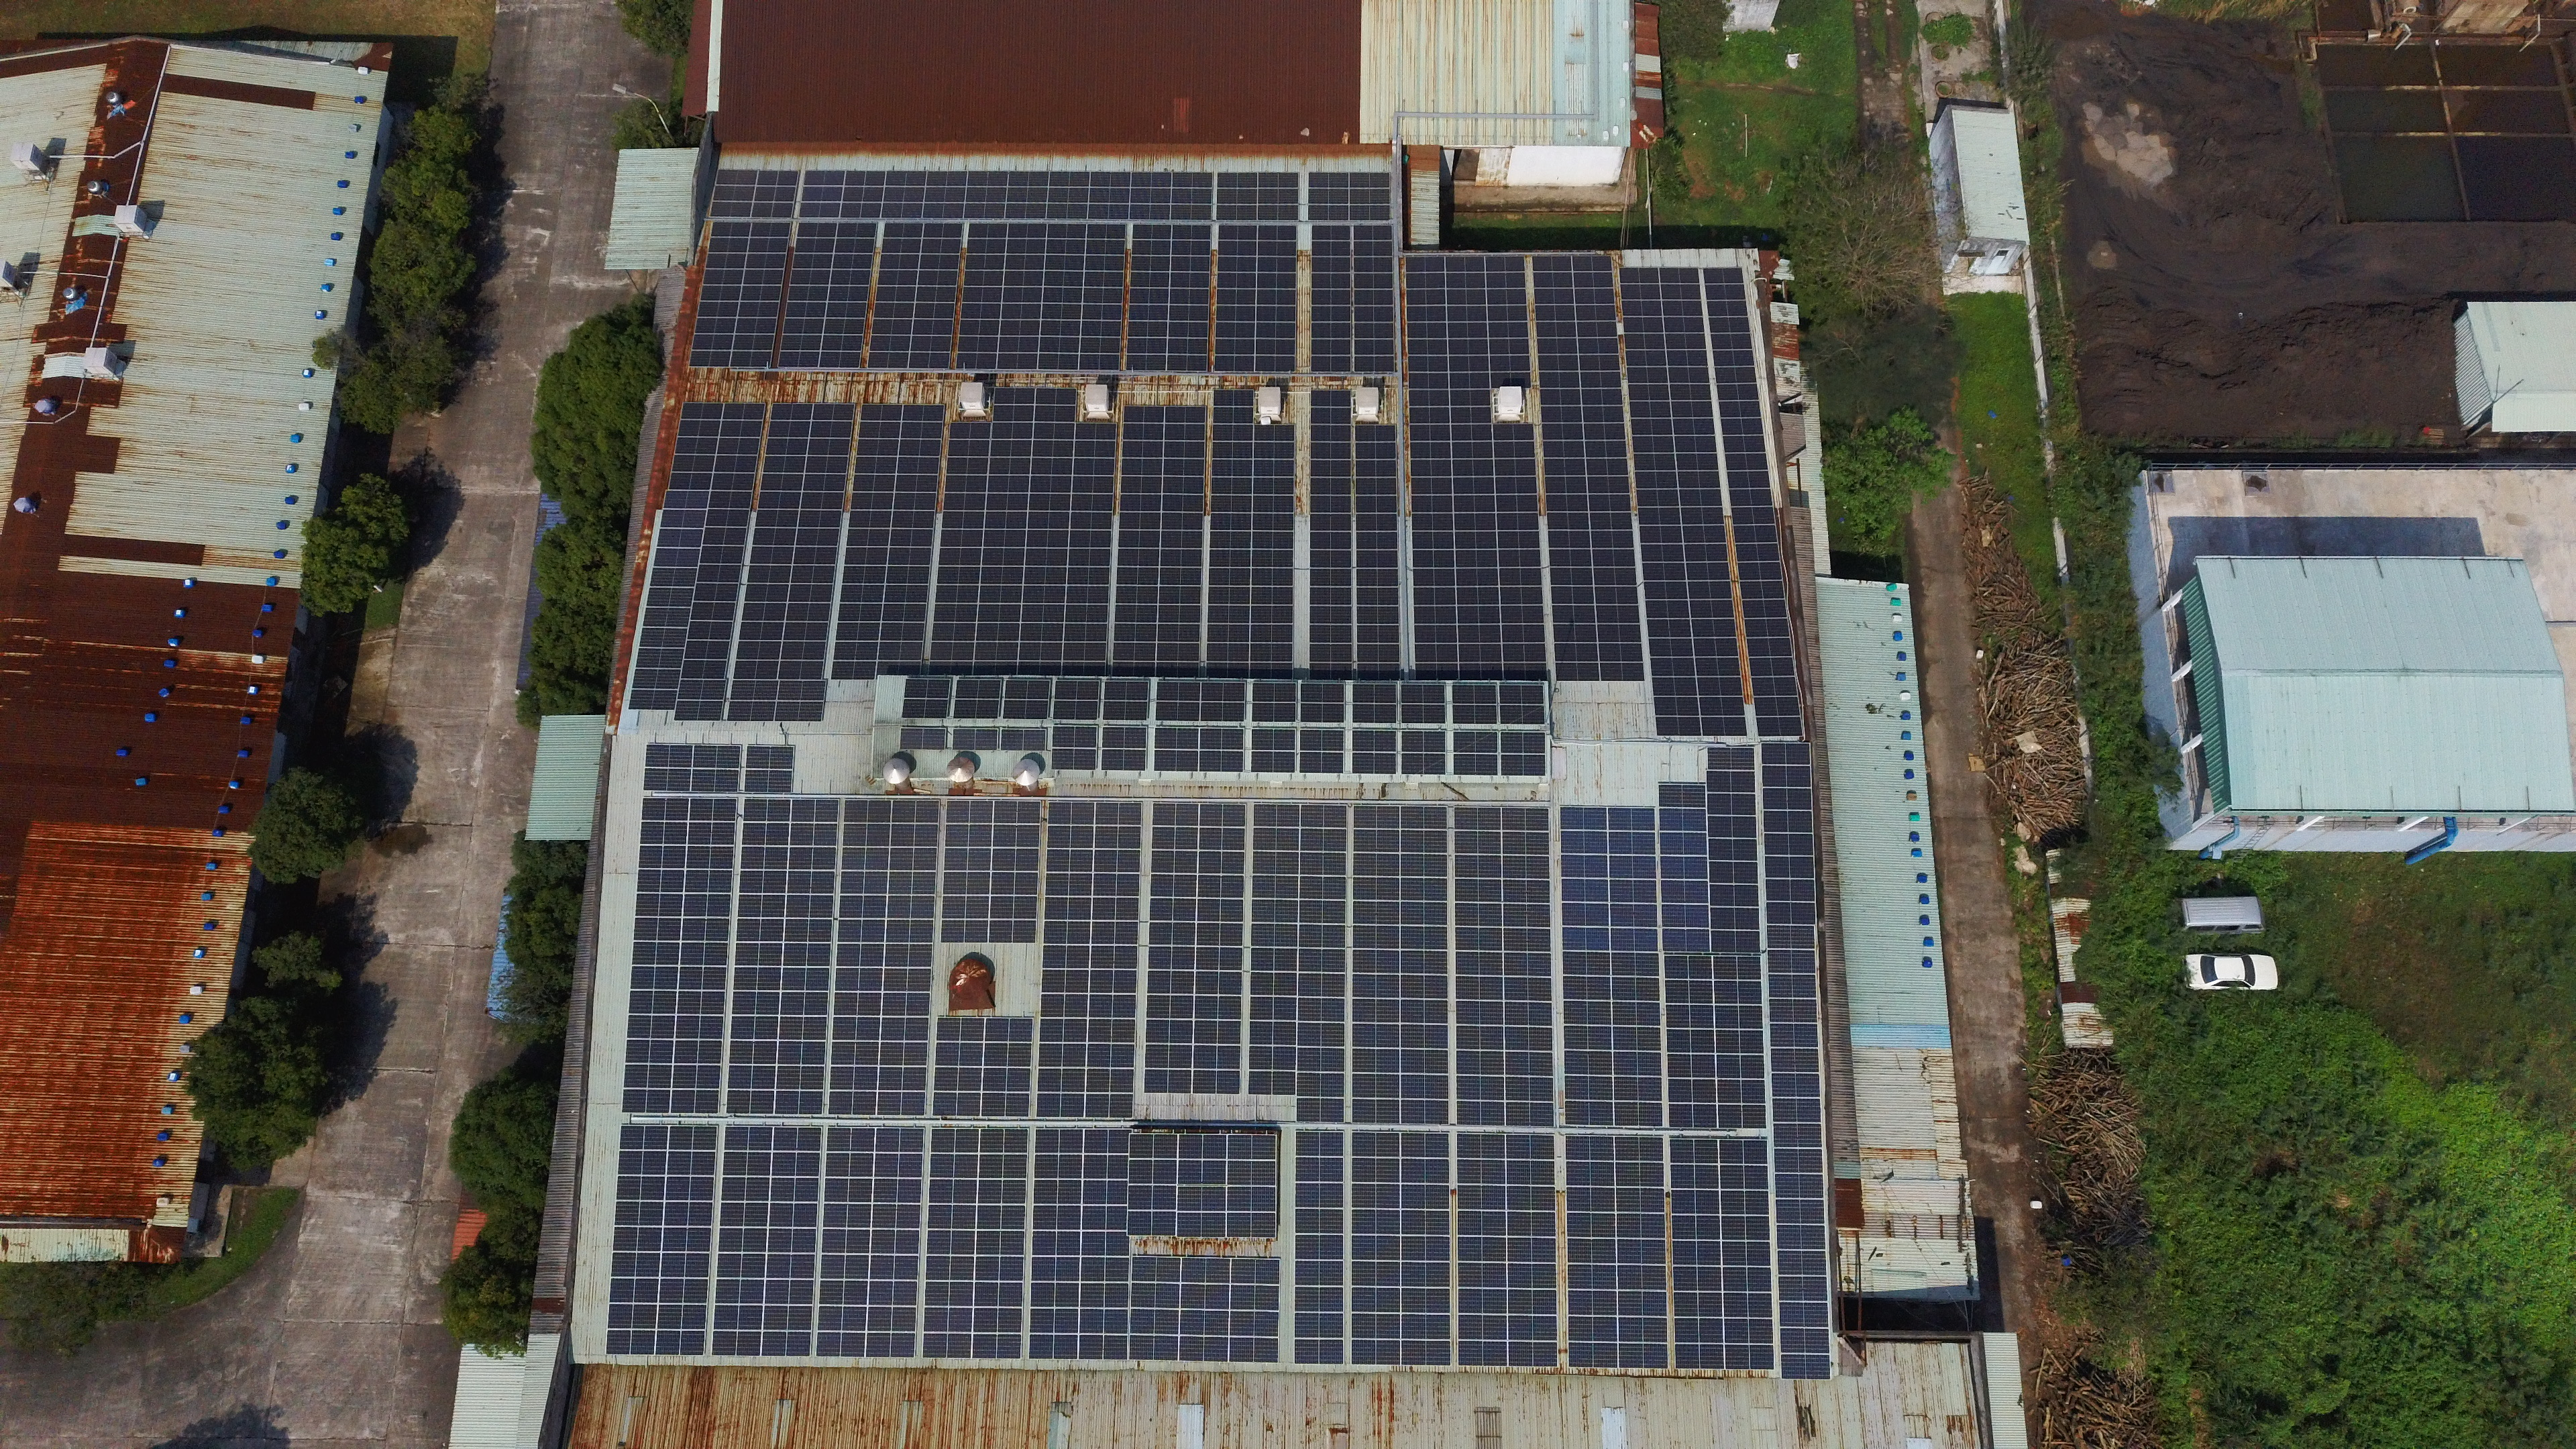solar: (605, 1329, 656, 1355), (612, 1226, 663, 1253), (656, 1304, 708, 1330), (660, 1226, 711, 1253), (663, 1175, 715, 1201), (665, 1150, 717, 1177), (724, 1125, 775, 1152), (717, 1226, 768, 1253), (713, 1304, 764, 1330), (768, 1201, 819, 1228), (770, 1152, 821, 1178), (817, 1279, 869, 1306), (816, 1306, 867, 1332), (867, 1306, 918, 1332), (867, 1254, 918, 1281), (872, 1178, 924, 1205), (929, 1127, 980, 1154), (927, 1154, 978, 1180), (925, 1230, 977, 1256), (924, 1281, 975, 1307), (1033, 1127, 1085, 1154), (1033, 1154, 1085, 1180), (1030, 1307, 1081, 1334), (1077, 1334, 1129, 1361), (1129, 1132, 1180, 1159), (1127, 1159, 1178, 1185), (1177, 1134, 1228, 1161), (1177, 1185, 1228, 1212), (1177, 1212, 1228, 1238), (1226, 1187, 1277, 1214), (1131, 1283, 1182, 1309), (1293, 1338, 1345, 1364), (1293, 1286, 1345, 1313), (1293, 1260, 1345, 1286), (1293, 1235, 1345, 1261), (1295, 1182, 1346, 1208), (1295, 1131, 1346, 1157), (1350, 1313, 1401, 1339), (1401, 1339, 1453, 1366), (1399, 1313, 1451, 1339), (1401, 1288, 1453, 1315), (1399, 1237, 1451, 1263), (1399, 1157, 1451, 1184), (1399, 1132, 1451, 1159), (1456, 1159, 1507, 1185), (1456, 1210, 1507, 1237), (1456, 1315, 1507, 1341), (1507, 1315, 1559, 1341), (1566, 1187, 1617, 1214), (1566, 1238, 1617, 1265), (1566, 1290, 1617, 1316), (1617, 1343, 1668, 1369), (1615, 1238, 1667, 1265), (1668, 1138, 1720, 1164), (1670, 1162, 1721, 1189), (1723, 1345, 1775, 1371), (1720, 1215, 1771, 1242), (1716, 1139, 1767, 1166), (1776, 1224, 1828, 1251), (1771, 1122, 1822, 1148), (1771, 1072, 1822, 1099), (1762, 764, 1813, 791), (1707, 791, 1759, 817), (1709, 883, 1760, 909), (1709, 929, 1760, 955), (1714, 1003, 1766, 1030), (1716, 1104, 1767, 1131), (1667, 1077, 1718, 1104), (1665, 1028, 1716, 1054), (1661, 927, 1713, 954), (1660, 902, 1711, 929), (1660, 879, 1711, 906), (1658, 832, 1709, 858), (1658, 782, 1709, 809), (1606, 807, 1658, 833), (1608, 927, 1660, 954), (1612, 1001, 1663, 1028), (1612, 1076, 1663, 1102), (1614, 1100, 1665, 1127), (1562, 1100, 1614, 1127), (1564, 1049, 1615, 1076), (1562, 1024, 1614, 1051), (1562, 1000, 1614, 1026), (1562, 950, 1614, 977), (1560, 878, 1612, 904), (1559, 830, 1610, 856), (1500, 807, 1552, 833), (1500, 830, 1552, 856), (1502, 1000, 1553, 1026), (1504, 1076, 1555, 1102), (1504, 1100, 1555, 1127), (1456, 1100, 1507, 1127), (1456, 1074, 1507, 1100), (1454, 1049, 1506, 1076), (1454, 975, 1506, 1001), (1453, 878, 1504, 904), (1453, 853, 1504, 879), (1398, 853, 1449, 879), (1399, 998, 1451, 1024), (1350, 998, 1401, 1024), (1352, 851, 1403, 878), (1297, 851, 1348, 878), (1297, 899, 1348, 925), (1297, 948, 1348, 975), (1295, 971, 1346, 998), (1295, 1021, 1346, 1047), (1295, 1097, 1346, 1123), (1247, 1044, 1299, 1070), (1253, 849, 1304, 876), (1196, 803, 1247, 830), (1196, 851, 1247, 878), (1194, 897, 1246, 924), (1191, 994, 1242, 1021), (1192, 1019, 1244, 1046), (1191, 1044, 1242, 1070), (1191, 1069, 1242, 1095), (1143, 1069, 1194, 1095), (1143, 1019, 1194, 1046), (1146, 970, 1198, 996), (1146, 897, 1198, 924), (1093, 801, 1145, 828), (1092, 847, 1143, 874), (1090, 920, 1141, 947), (1090, 945, 1141, 971), (1037, 1067, 1088, 1093), (1039, 1042, 1090, 1069), (1040, 968, 1092, 994), (1042, 918, 1093, 945), (1044, 872, 1095, 899), (1044, 847, 1095, 874), (1046, 824, 1097, 851), (1044, 801, 1095, 828), (993, 800, 1044, 826), (991, 846, 1042, 872), (941, 870, 993, 897), (888, 823, 939, 849), (888, 846, 939, 872), (886, 869, 938, 895), (885, 893, 936, 920), (885, 918, 936, 945), (883, 943, 934, 970), (879, 1016, 931, 1042), (874, 1090, 925, 1116), (934, 1040, 985, 1067), (982, 1042, 1033, 1069), (833, 966, 885, 993), (833, 943, 885, 970), (839, 846, 890, 872), (840, 823, 892, 849), (789, 823, 840, 849), (784, 893, 835, 920), (782, 916, 833, 943), (778, 991, 830, 1017), (727, 1065, 778, 1092), (738, 869, 789, 895), (740, 844, 791, 870), (741, 821, 793, 847), (741, 798, 793, 824), (688, 796, 740, 823), (685, 846, 736, 872), (683, 869, 734, 895), (679, 916, 731, 943), (674, 1014, 725, 1040), (672, 1039, 724, 1065), (671, 1065, 722, 1092), (630, 939, 681, 966), (637, 844, 688, 870), (639, 796, 690, 823), (642, 766, 694, 793), (621, 1123, 672, 1150), (1767, 1023, 1819, 1049), (717, 1253, 766, 1279), (766, 1253, 816, 1279), (872, 1203, 922, 1230), (980, 1129, 1030, 1155), (1033, 1178, 1083, 1205), (1230, 1284, 1279, 1311), (1230, 1336, 1279, 1362), (1352, 1208, 1401, 1235), (1458, 1235, 1507, 1261), (1458, 1288, 1507, 1315), (1507, 1341, 1557, 1368), (1507, 1263, 1557, 1290), (1566, 1161, 1615, 1187), (1566, 1212, 1615, 1238), (1674, 1292, 1723, 1318), (1721, 1240, 1771, 1267), (1780, 1327, 1829, 1353), (1775, 1173, 1824, 1200), (1775, 1148, 1824, 1175), (1766, 901, 1815, 927), (1766, 878, 1815, 904), (1707, 745, 1757, 771), (1707, 837, 1757, 863), (1660, 855, 1709, 881), (1502, 902, 1552, 929), (1453, 805, 1502, 832), (1399, 1099, 1449, 1125), (1352, 1047, 1401, 1074), (1352, 876, 1401, 902), (1297, 996, 1346, 1023), (1249, 1019, 1299, 1046), (1253, 803, 1302, 830), (1150, 849, 1200, 876), (1150, 824, 1200, 851), (1039, 1017, 1088, 1044), (1044, 895, 1093, 922), (991, 823, 1040, 849), (989, 893, 1039, 920), (878, 1040, 927, 1067), (936, 1016, 985, 1042), (830, 1065, 879, 1092), (830, 1040, 879, 1067), (731, 991, 780, 1017), (688, 768, 738, 794), (639, 819, 688, 846), (899, 725, 948, 752), (607, 1304, 658, 1329), (609, 1277, 660, 1302), (610, 1253, 662, 1277), (655, 1330, 706, 1355), (658, 1277, 709, 1302), (660, 1253, 711, 1277), (667, 1127, 718, 1152), (722, 1152, 773, 1177), (720, 1177, 771, 1201), (718, 1201, 770, 1226), (715, 1279, 766, 1304), (711, 1330, 763, 1355), (761, 1330, 812, 1355), (763, 1306, 814, 1330), (763, 1279, 814, 1304), (766, 1228, 817, 1253), (770, 1178, 821, 1203), (824, 1127, 876, 1152), (824, 1152, 876, 1177), (821, 1178, 872, 1203), (821, 1203, 872, 1228), (819, 1230, 870, 1254), (819, 1254, 870, 1279), (816, 1332, 867, 1357), (865, 1332, 916, 1357), (867, 1281, 918, 1306), (870, 1230, 922, 1254), (872, 1154, 924, 1178), (874, 1127, 925, 1152), (927, 1180, 978, 1205), (927, 1205, 978, 1230), (925, 1256, 977, 1281), (922, 1307, 973, 1332), (922, 1334, 973, 1359), (971, 1334, 1023, 1359), (971, 1307, 1023, 1332), (973, 1283, 1024, 1307), (973, 1256, 1024, 1281), (973, 1231, 1024, 1256), (975, 1205, 1026, 1230), (977, 1180, 1028, 1205), (977, 1154, 1028, 1178), (1030, 1230, 1081, 1254), (1030, 1256, 1081, 1281), (1028, 1334, 1079, 1359), (1079, 1309, 1131, 1334), (1079, 1283, 1131, 1307), (1079, 1258, 1131, 1283), (1079, 1231, 1131, 1256), (1081, 1205, 1132, 1230), (1079, 1180, 1131, 1205), (1079, 1154, 1131, 1178), (1127, 1185, 1178, 1210), (1127, 1210, 1178, 1235), (1177, 1161, 1228, 1185), (1226, 1212, 1277, 1237), (1226, 1161, 1277, 1185), (1226, 1136, 1277, 1161), (1131, 1258, 1182, 1283), (1129, 1309, 1180, 1334), (1127, 1336, 1178, 1361), (1178, 1336, 1230, 1361), (1178, 1311, 1230, 1336), (1180, 1258, 1231, 1283), (1230, 1260, 1281, 1284), (1228, 1311, 1279, 1336), (1293, 1313, 1345, 1338), (1293, 1208, 1345, 1233), (1295, 1157, 1346, 1182), (1350, 1184, 1401, 1208), (1350, 1235, 1401, 1260), (1350, 1261, 1401, 1286), (1350, 1339, 1401, 1364), (1399, 1263, 1451, 1288), (1401, 1210, 1453, 1235), (1399, 1185, 1451, 1210), (1456, 1134, 1507, 1159), (1456, 1185, 1507, 1210), (1458, 1263, 1509, 1288), (1507, 1290, 1559, 1315), (1506, 1212, 1557, 1237), (1504, 1185, 1555, 1210), (1506, 1161, 1557, 1185), (1506, 1134, 1557, 1159), (1568, 1265, 1619, 1290), (1568, 1316, 1619, 1341), (1568, 1343, 1619, 1368), (1617, 1318, 1668, 1343), (1617, 1292, 1668, 1316), (1615, 1265, 1667, 1290), (1615, 1214, 1667, 1238), (1615, 1189, 1667, 1214), (1614, 1138, 1665, 1162), (1670, 1191, 1721, 1215), (1672, 1240, 1723, 1265), (1672, 1267, 1723, 1292), (1674, 1345, 1725, 1369), (1723, 1318, 1775, 1343), (1721, 1292, 1773, 1316), (1721, 1267, 1773, 1292), (1720, 1191, 1771, 1215), (1718, 1166, 1769, 1191), (1780, 1355, 1831, 1380), (1780, 1302, 1831, 1327), (1778, 1277, 1829, 1302), (1778, 1251, 1829, 1276), (1775, 1200, 1826, 1224), (1771, 1099, 1822, 1123), (1769, 1049, 1821, 1074), (1767, 1000, 1819, 1024), (1767, 975, 1819, 1000), (1767, 950, 1819, 975), (1766, 925, 1817, 950), (1764, 855, 1815, 879), (1764, 832, 1815, 856), (1762, 810, 1813, 835), (1762, 787, 1813, 812), (1760, 743, 1812, 768), (1706, 770, 1757, 794), (1706, 816, 1757, 840), (1709, 906, 1760, 931), (1711, 955, 1762, 980), (1714, 1030, 1766, 1054), (1714, 1054, 1766, 1079), (1716, 1079, 1767, 1104), (1667, 1104, 1718, 1129), (1665, 1054, 1716, 1079), (1665, 1003, 1716, 1028), (1665, 980, 1716, 1005), (1658, 809, 1709, 833), (1606, 830, 1658, 855), (1608, 855, 1660, 879), (1608, 879, 1660, 904), (1608, 902, 1660, 927), (1610, 952, 1661, 977), (1610, 977, 1661, 1001), (1612, 1026, 1663, 1051), (1612, 1051, 1663, 1076), (1564, 1076, 1615, 1100), (1562, 977, 1614, 1001), (1560, 902, 1612, 927), (1559, 807, 1610, 832), (1499, 855, 1550, 879), (1500, 879, 1552, 904), (1502, 977, 1553, 1001), (1502, 1026, 1553, 1051), (1504, 1053, 1555, 1077), (1454, 1026, 1506, 1051), (1453, 927, 1504, 952), (1398, 805, 1449, 830), (1398, 878, 1449, 902), (1398, 902, 1449, 927), (1398, 925, 1449, 950), (1399, 950, 1451, 975), (1399, 1049, 1451, 1074), (1352, 1099, 1403, 1123), (1350, 1074, 1401, 1099), (1350, 975, 1401, 1000), (1350, 950, 1401, 975), (1350, 925, 1401, 950), (1350, 901, 1401, 925), (1352, 828, 1403, 853), (1297, 805, 1348, 830), (1299, 828, 1350, 853), (1297, 876, 1348, 901), (1295, 1072, 1346, 1097), (1246, 1070, 1297, 1095), (1246, 996, 1297, 1021), (1249, 971, 1300, 996), (1247, 924, 1299, 948), (1251, 876, 1302, 901), (1194, 922, 1246, 947), (1192, 947, 1244, 971), (1192, 971, 1244, 996), (1145, 1044, 1196, 1069), (1145, 994, 1196, 1019), (1146, 947, 1198, 971), (1146, 922, 1198, 947), (1148, 874, 1200, 899), (1150, 803, 1201, 828), (1092, 824, 1143, 849), (1090, 897, 1141, 922), (1086, 970, 1138, 994), (1086, 994, 1138, 1019), (1085, 1017, 1136, 1042), (1085, 1069, 1136, 1093), (1083, 1093, 1134, 1118), (1035, 1093, 1086, 1118), (1040, 994, 1092, 1019), (1040, 945, 1092, 970), (987, 918, 1039, 943), (943, 847, 994, 872), (943, 824, 994, 849), (943, 800, 994, 824), (890, 800, 941, 824), (881, 968, 932, 993), (881, 993, 932, 1017), (878, 1067, 929, 1092), (932, 1092, 984, 1116), (932, 1067, 984, 1092), (984, 1019, 1035, 1044), (982, 1067, 1033, 1092), (830, 1016, 881, 1040), (832, 991, 883, 1016), (835, 918, 886, 943), (835, 895, 886, 920), (839, 869, 890, 893), (842, 800, 893, 824), (789, 800, 840, 824), (786, 846, 837, 870), (782, 943, 833, 968), (777, 1016, 828, 1040), (777, 1040, 828, 1065), (773, 1090, 824, 1115), (725, 1090, 777, 1115), (729, 1016, 780, 1040), (732, 941, 784, 966), (741, 770, 793, 794), (745, 745, 796, 770), (685, 823, 736, 847), (679, 943, 731, 968), (678, 966, 729, 991), (676, 991, 727, 1016), (669, 1088, 720, 1113), (619, 1088, 671, 1113), (623, 1063, 674, 1088), (625, 1039, 676, 1063), (626, 1014, 678, 1039), (628, 989, 679, 1014), (630, 966, 681, 991), (632, 916, 683, 941), (633, 893, 685, 918), (635, 869, 686, 893), (644, 743, 695, 768), (616, 1175, 667, 1200), (616, 1150, 667, 1175), (614, 1201, 663, 1226), (663, 1203, 713, 1228), (771, 1127, 821, 1152), (1033, 1205, 1083, 1230), (1030, 1283, 1079, 1307), (1083, 1131, 1132, 1155), (1180, 1284, 1230, 1309), (1352, 1132, 1401, 1157), (1352, 1157, 1401, 1182), (1352, 1288, 1401, 1313), (1458, 1341, 1507, 1366), (1507, 1238, 1557, 1263), (1566, 1136, 1615, 1161), (1615, 1162, 1665, 1187), (1672, 1215, 1721, 1240), (1674, 1318, 1723, 1343), (1707, 860, 1757, 885), (1713, 980, 1762, 1005), (1663, 955, 1713, 980), (1560, 927, 1610, 952), (1560, 855, 1610, 879), (1502, 927, 1552, 952), (1502, 952, 1552, 977), (1454, 1000, 1504, 1024), (1454, 950, 1504, 975), (1454, 902, 1504, 927), (1453, 830, 1502, 855), (1399, 830, 1449, 855), (1399, 975, 1449, 1000), (1399, 1024, 1449, 1049), (1399, 1074, 1449, 1099), (1352, 1023, 1401, 1047), (1352, 805, 1401, 830), (1297, 924, 1346, 948), (1297, 1047, 1346, 1072), (1249, 947, 1299, 971), (1249, 899, 1299, 924), (1253, 828, 1302, 853), (1196, 828, 1246, 853), (1196, 874, 1246, 899), (1092, 874, 1141, 899), (1088, 1042, 1138, 1067), (989, 870, 1039, 895), (941, 918, 991, 943), (941, 895, 991, 920), (980, 1092, 1030, 1116), (828, 1092, 878, 1116), (786, 870, 835, 895), (780, 968, 830, 993), (775, 1065, 824, 1090), (727, 1040, 777, 1065), (732, 968, 782, 993), (736, 918, 786, 943), (736, 893, 786, 918), (692, 745, 741, 770), (683, 893, 732, 918), (678, 678, 727, 702), (775, 679, 828, 702), (1200, 701, 1247, 725), (1249, 750, 1297, 775), (1399, 752, 1447, 777), (1497, 702, 1545, 727), (628, 688, 679, 711), (644, 586, 695, 609), (1154, 725, 1200, 750), (1154, 748, 1200, 773), (1200, 679, 1246, 704), (1300, 681, 1346, 706), (1352, 750, 1398, 775), (1454, 731, 1500, 755), (731, 679, 780, 702), (1000, 729, 1047, 752), (1001, 697, 1049, 720), (1053, 679, 1100, 702), (1099, 748, 1146, 771), (1102, 679, 1150, 702), (1154, 699, 1201, 722), (1251, 679, 1299, 702), (1299, 702, 1346, 725), (1352, 683, 1399, 706), (1350, 731, 1398, 754), (1399, 731, 1447, 754), (1453, 752, 1500, 775), (1499, 732, 1546, 755), (745, 563, 793, 586), (755, 488, 803, 511), (763, 435, 810, 458), (1753, 695, 1801, 718), (1755, 715, 1803, 738), (632, 669, 683, 690), (633, 648, 685, 669), (637, 626, 688, 648), (642, 607, 694, 628), (648, 566, 699, 587), (651, 547, 702, 568), (655, 527, 706, 548), (658, 508, 709, 529), (660, 488, 711, 510), (773, 701, 824, 722), (952, 727, 998, 750), (1005, 678, 1051, 701), (1053, 699, 1099, 722), (1053, 725, 1099, 748), (1051, 747, 1097, 770), (1100, 725, 1146, 748), (1102, 699, 1148, 722), (1155, 681, 1201, 704), (1198, 750, 1244, 773), (1200, 729, 1246, 752), (1251, 701, 1297, 724), (1251, 729, 1297, 752), (1299, 752, 1345, 775), (1299, 729, 1345, 752), (1352, 702, 1398, 725), (1401, 702, 1447, 725), (1399, 683, 1445, 706), (1451, 683, 1497, 706), (1453, 704, 1499, 727), (1500, 754, 1546, 777), (1499, 683, 1545, 706), (847, 508, 893, 531), (1744, 616, 1790, 639), (674, 699, 724, 720), (727, 701, 777, 722), (860, 402, 904, 425), (901, 697, 948, 718), (955, 678, 1003, 699), (952, 697, 1000, 718), (732, 658, 780, 679), (738, 621, 786, 642), (741, 602, 789, 623), (743, 582, 791, 603), (748, 545, 796, 566), (752, 508, 800, 529), (757, 471, 805, 492), (761, 453, 809, 474), (764, 418, 812, 439), (830, 658, 878, 679), (1690, 617, 1737, 639), (1688, 598, 1736, 619), (1684, 561, 1732, 582), (904, 678, 950, 699), (667, 471, 713, 492), (671, 453, 717, 474), (672, 433, 718, 455), (676, 418, 722, 439), (736, 640, 782, 662), (750, 525, 796, 547), (833, 640, 879, 662), (835, 621, 881, 642), (840, 564, 886, 586), (844, 545, 890, 566), (846, 527, 892, 548), (849, 490, 895, 511), (851, 472, 897, 494), (853, 455, 899, 476), (855, 437, 901, 458), (888, 527, 934, 548), (885, 564, 931, 586), (883, 584, 929, 605), (878, 640, 924, 662), (876, 662, 922, 683), (934, 584, 980, 605), (936, 564, 982, 586), (938, 547, 984, 568), (939, 527, 985, 548), (943, 492, 989, 513), (945, 455, 991, 476), (985, 474, 1031, 495), (982, 527, 1028, 548), (977, 584, 1023, 605), (1017, 660, 1063, 681), (1019, 621, 1065, 642), (1021, 584, 1067, 605), (1030, 456, 1076, 478), (1030, 439, 1076, 460), (1065, 566, 1111, 587), (1207, 584, 1253, 605), (1407, 405, 1453, 426), (1407, 387, 1453, 409), (1445, 320, 1491, 341), (1445, 352, 1491, 373), (1550, 584, 1596, 605), (1555, 662, 1601, 683), (1596, 623, 1642, 644), (1594, 603, 1640, 625), (1591, 547, 1637, 568), (1587, 510, 1633, 531), (1587, 492, 1633, 513), (1583, 439, 1629, 460), (1582, 421, 1628, 442), (1578, 370, 1624, 391), (1576, 352, 1622, 373), (1651, 656, 1697, 678), (1652, 676, 1698, 697), (1700, 715, 1746, 736), (1697, 676, 1743, 697), (1695, 656, 1741, 678), (1693, 637, 1739, 658), (1684, 541, 1730, 563), (1681, 524, 1727, 545), (1679, 506, 1725, 527), (1677, 487, 1723, 508), (1675, 469, 1721, 490), (1675, 451, 1721, 472), (1672, 433, 1718, 455), (1667, 380, 1713, 402), (1665, 364, 1711, 386), (1665, 347, 1711, 368), (1663, 331, 1709, 352), (1661, 313, 1707, 334), (1729, 487, 1775, 508), (1730, 506, 1776, 527), (1732, 524, 1778, 545), (1734, 541, 1780, 563), (1739, 579, 1785, 600), (1746, 637, 1792, 658), (1750, 656, 1796, 678), (1752, 676, 1798, 697), (695, 299, 741, 320), (766, 400, 816, 419), (805, 437, 855, 456), (801, 455, 851, 474), (791, 547, 840, 566), (784, 602, 833, 621), (780, 621, 830, 640), (839, 602, 883, 623), (840, 582, 885, 603), (858, 419, 902, 441), (883, 603, 927, 625), (879, 621, 924, 642), (931, 658, 975, 679), (931, 640, 975, 662), (932, 621, 977, 642), (934, 603, 978, 625), (941, 510, 985, 531), (947, 437, 991, 458), (993, 386, 1037, 407), (991, 421, 1035, 442), (989, 439, 1033, 460), (987, 456, 1031, 478), (980, 547, 1024, 568), (977, 603, 1021, 625), (975, 621, 1019, 642), (975, 640, 1019, 662), (975, 660, 1019, 681), (1019, 640, 1063, 662), (1021, 603, 1065, 625), (1024, 547, 1069, 568), (1026, 529, 1070, 550), (1028, 492, 1072, 513), (1030, 474, 1074, 495), (1033, 403, 1077, 425), (1072, 456, 1116, 478), (1070, 474, 1115, 495), (1070, 492, 1115, 513), (1069, 529, 1113, 550), (1067, 547, 1111, 568), (1065, 603, 1109, 625), (1063, 621, 1108, 642), (1063, 640, 1108, 662), (1062, 662, 1106, 683), (1113, 660, 1157, 681), (1113, 640, 1157, 662), (1113, 621, 1157, 642), (1115, 603, 1159, 625), (1115, 584, 1159, 605), (1116, 566, 1161, 587), (1116, 547, 1161, 568), (1118, 527, 1162, 548), (1116, 511, 1161, 533), (1118, 474, 1162, 495), (1120, 456, 1164, 478), (1120, 439, 1164, 460), (1122, 421, 1166, 442), (1122, 403, 1166, 425), (1162, 421, 1207, 442), (1162, 439, 1207, 460), (1161, 456, 1205, 478), (1161, 474, 1205, 495), (1159, 529, 1203, 550), (1159, 548, 1203, 570), (1159, 566, 1203, 587), (1157, 586, 1201, 607), (1157, 603, 1201, 625), (1157, 623, 1201, 644), (1155, 642, 1200, 663), (1157, 662, 1201, 683), (1205, 660, 1249, 681), (1207, 642, 1251, 663), (1207, 623, 1251, 644), (1207, 603, 1251, 625), (1208, 566, 1253, 587), (1208, 547, 1253, 568), (1210, 511, 1254, 533), (1210, 476, 1254, 497), (1210, 458, 1254, 479), (1210, 441, 1254, 462), (1210, 423, 1254, 444), (1210, 405, 1254, 426), (1212, 387, 1256, 409), (1253, 423, 1297, 444), (1253, 441, 1297, 462), (1253, 458, 1297, 479), (1251, 476, 1295, 497), (1253, 494, 1297, 515), (1251, 511, 1295, 533), (1251, 531, 1295, 552), (1251, 548, 1295, 570), (1251, 566, 1295, 587), (1249, 605, 1293, 626), (1249, 623, 1293, 644), (1249, 642, 1293, 663), (1249, 662, 1293, 683), (1309, 662, 1353, 683), (1309, 642, 1353, 663), (1307, 587, 1352, 609), (1311, 568, 1355, 589), (1309, 548, 1353, 570), (1309, 531, 1353, 552), (1309, 494, 1353, 515), (1309, 476, 1353, 497), (1309, 441, 1353, 462), (1309, 405, 1353, 426), (1353, 423, 1398, 444), (1355, 441, 1399, 462), (1353, 458, 1398, 479), (1353, 476, 1398, 497), (1355, 494, 1399, 515), (1355, 568, 1399, 589), (1355, 586, 1399, 607), (1355, 605, 1399, 626), (1357, 642, 1401, 663), (1357, 662, 1401, 683), (1415, 660, 1460, 681), (1415, 642, 1460, 663), (1414, 623, 1458, 644), (1414, 586, 1458, 607), (1414, 566, 1458, 587), (1412, 548, 1456, 570), (1412, 531, 1456, 552), (1412, 511, 1456, 533), (1410, 476, 1454, 497), (1408, 423, 1453, 444), (1407, 370, 1451, 391), (1407, 354, 1451, 375), (1407, 336, 1451, 357), (1405, 320, 1449, 341), (1405, 303, 1449, 324), (1405, 287, 1449, 308), (1403, 269, 1447, 290), (1444, 271, 1488, 292), (1444, 287, 1488, 308), (1444, 304, 1488, 326), (1447, 372, 1491, 393), (1449, 387, 1493, 409), (1449, 405, 1493, 426), (1449, 423, 1493, 444), (1451, 439, 1495, 460), (1453, 474, 1497, 495), (1453, 511, 1497, 533), (1454, 548, 1499, 570), (1456, 566, 1500, 587), (1456, 586, 1500, 607), (1456, 605, 1500, 626), (1458, 623, 1502, 644), (1458, 642, 1502, 663), (1502, 662, 1546, 683), (1502, 640, 1546, 662), (1502, 623, 1546, 644), (1500, 603, 1545, 625), (1499, 586, 1543, 607), (1499, 566, 1543, 587), (1499, 547, 1543, 568), (1497, 511, 1541, 533), (1495, 492, 1539, 513), (1493, 476, 1537, 497), (1493, 456, 1537, 478), (1493, 439, 1537, 460), (1491, 421, 1536, 442), (1488, 352, 1532, 373), (1486, 336, 1530, 357), (1486, 318, 1530, 340), (1486, 303, 1530, 324), (1484, 287, 1529, 308), (1484, 269, 1529, 290), (1553, 623, 1598, 644), (1555, 642, 1599, 663), (1601, 662, 1645, 683), (1599, 642, 1644, 663), (1594, 584, 1638, 605), (1592, 566, 1637, 587), (1591, 529, 1635, 550), (1585, 456, 1629, 478), (1582, 403, 1626, 425), (1580, 387, 1624, 409), (1576, 336, 1621, 357), (1571, 269, 1615, 290), (1619, 281, 1663, 303), (1621, 315, 1665, 336), (1638, 506, 1683, 527), (1647, 617, 1691, 639), (1649, 637, 1693, 658), (1737, 561, 1782, 582), (1743, 598, 1787, 619), (694, 315, 738, 336), (699, 283, 743, 304), (701, 267, 745, 288), (809, 419, 856, 439), (800, 474, 847, 494), (798, 492, 846, 511), (796, 510, 844, 529), (794, 527, 842, 547), (789, 564, 837, 584), (787, 584, 835, 603), (780, 640, 828, 660), (777, 660, 824, 679), (1698, 697, 1746, 717), (1668, 400, 1716, 419), (1624, 331, 1667, 352), (1631, 418, 1674, 439), (1633, 433, 1675, 455), (1637, 488, 1679, 510), (1644, 561, 1686, 582), (679, 400, 725, 419), (722, 402, 768, 421), (718, 419, 764, 439), (715, 435, 761, 455), (713, 455, 759, 474), (711, 472, 757, 492), (706, 490, 752, 510), (704, 508, 750, 527), (702, 527, 748, 547), (699, 545, 745, 564), (694, 582, 740, 602), (692, 602, 738, 621), (688, 621, 734, 640), (685, 640, 731, 660), (681, 660, 727, 679), (943, 474, 989, 494), (947, 421, 993, 441), (1026, 511, 1072, 531), (1072, 439, 1118, 458), (1065, 586, 1111, 605), (1552, 605, 1598, 625), (1688, 580, 1734, 600), (1670, 416, 1716, 435), (1658, 297, 1704, 317), (1658, 283, 1704, 303), (1654, 265, 1700, 285), (706, 235, 752, 255), (752, 186, 798, 205), (743, 251, 789, 271), (738, 283, 784, 303), (736, 299, 782, 318), (731, 333, 777, 352), (778, 333, 824, 352), (782, 299, 828, 318), (786, 283, 832, 303), (787, 269, 833, 288), (794, 219, 840, 239), (842, 170, 888, 189), (840, 186, 886, 205), (833, 219, 879, 239), (832, 235, 878, 255), (828, 267, 874, 287), (821, 317, 867, 336), (819, 333, 865, 352), (817, 350, 863, 370), (869, 317, 915, 336), (874, 267, 920, 287), (879, 219, 925, 239), (879, 200, 925, 219), (924, 170, 970, 189), (922, 186, 968, 205), (920, 202, 966, 221), (916, 253, 962, 272), (915, 285, 961, 304), (911, 317, 957, 336), (909, 334, 955, 354), (906, 352, 952, 372), (957, 318, 1003, 338), (957, 303, 1003, 322), (962, 251, 1008, 271), (962, 235, 1008, 255), (962, 202, 1008, 221), (1007, 170, 1053, 189), (1005, 186, 1051, 205), (1001, 253, 1047, 272), (1001, 269, 1047, 288), (1035, 352, 1081, 372), (1039, 318, 1085, 338), (1040, 269, 1086, 288), (1040, 253, 1086, 272), (1042, 237, 1088, 257), (1044, 221, 1090, 241), (1086, 172, 1132, 191), (1086, 186, 1132, 205), (1085, 202, 1131, 221), (1083, 223, 1129, 242), (1081, 269, 1127, 288), (1081, 287, 1127, 306), (1077, 318, 1123, 338), (1123, 352, 1169, 372), (1125, 336, 1171, 356), (1125, 320, 1171, 340), (1125, 303, 1171, 322), (1127, 186, 1173, 205), (1169, 170, 1215, 189), (1168, 239, 1214, 258), (1166, 288, 1212, 308), (1212, 320, 1258, 340), (1214, 303, 1260, 322), (1214, 239, 1260, 258), (1215, 170, 1261, 189), (1256, 188, 1302, 207), (1256, 203, 1302, 223), (1254, 239, 1300, 258), (1253, 288, 1299, 308), (1253, 336, 1299, 356), (1253, 354, 1299, 373), (1307, 354, 1353, 373), (1309, 255, 1355, 274), (1309, 239, 1355, 258), (1309, 225, 1355, 244), (1306, 188, 1352, 207), (1306, 172, 1352, 191), (1346, 170, 1392, 189), (1348, 186, 1394, 205), (1350, 223, 1396, 242), (1350, 239, 1396, 258), (1350, 271, 1396, 290), (1350, 288, 1396, 308), (1350, 304, 1396, 324), (1350, 320, 1396, 340), (1352, 356, 1398, 375), (893, 492, 938, 511), (888, 547, 932, 566), (991, 403, 1035, 423), (985, 492, 1030, 511), (984, 511, 1028, 531), (980, 566, 1024, 586), (1023, 566, 1067, 586), (1031, 421, 1076, 441), (1069, 511, 1113, 531), (1118, 494, 1162, 513), (1162, 405, 1207, 425), (1161, 494, 1205, 513), (1161, 511, 1205, 531), (1208, 531, 1253, 550), (1208, 494, 1253, 513), (1249, 586, 1293, 605), (1309, 625, 1353, 644), (1309, 605, 1353, 625), (1309, 513, 1353, 533), (1309, 458, 1353, 478), (1309, 425, 1353, 444), (1309, 389, 1353, 409), (1353, 513, 1398, 533), (1355, 531, 1399, 550), (1355, 550, 1399, 570), (1355, 625, 1399, 644), (1414, 605, 1458, 625), (1410, 494, 1454, 513), (1410, 458, 1454, 478), (1408, 441, 1453, 460), (1444, 253, 1488, 272), (1447, 338, 1491, 357), (1451, 458, 1495, 478), (1453, 494, 1497, 513), (1454, 531, 1499, 550), (1460, 663, 1504, 683), (1497, 531, 1541, 550), (1490, 370, 1534, 389), (1483, 253, 1527, 272), (1532, 287, 1576, 306), (1537, 370, 1582, 389), (1550, 566, 1594, 586), (1587, 474, 1631, 494), (1575, 318, 1619, 338), (1569, 253, 1614, 272), (1619, 265, 1663, 285), (1619, 299, 1663, 318), (1624, 349, 1668, 368), (1626, 382, 1670, 402), (1633, 453, 1677, 472), (1640, 543, 1684, 563), (1645, 600, 1690, 619), (1654, 697, 1698, 717), (1656, 717, 1700, 736), (1718, 400, 1762, 419), (1727, 469, 1771, 488), (688, 349, 732, 368), (690, 333, 734, 352), (704, 249, 748, 269), (708, 219, 752, 239), (709, 200, 754, 219), (711, 184, 755, 203), (715, 168, 759, 188), (755, 168, 800, 188), (750, 200, 794, 219), (748, 221, 793, 241), (745, 235, 789, 255), (741, 269, 786, 288), (734, 317, 778, 336), (729, 350, 773, 370), (777, 350, 821, 370), (780, 317, 824, 336), (791, 251, 835, 271), (793, 235, 837, 255), (798, 200, 842, 219), (800, 184, 844, 203), (803, 168, 847, 188), (840, 200, 885, 219), (830, 251, 874, 271), (826, 283, 870, 303), (824, 299, 869, 318), (867, 350, 911, 370), (869, 333, 913, 352), (872, 301, 916, 320), (874, 285, 918, 304), (878, 251, 922, 271), (879, 235, 924, 255), (881, 184, 925, 203), (885, 170, 929, 189), (922, 221, 966, 241), (918, 237, 962, 257), (916, 269, 961, 288), (913, 301, 957, 320), (955, 350, 1000, 370), (957, 334, 1001, 354), (959, 287, 1003, 306), (962, 267, 1007, 287), (966, 221, 1010, 241), (964, 186, 1008, 205), (966, 170, 1010, 189), (1005, 200, 1049, 219), (1005, 221, 1049, 241), (1005, 237, 1049, 257), (1000, 285, 1044, 304), (1000, 303, 1044, 322), (1000, 318, 1044, 338), (998, 334, 1042, 354), (996, 352, 1040, 372), (1039, 336, 1083, 356), (1040, 303, 1085, 322), (1040, 287, 1085, 306), (1046, 202, 1090, 221), (1047, 184, 1092, 203), (1047, 170, 1092, 189), (1083, 237, 1127, 257), (1083, 253, 1127, 272), (1079, 303, 1123, 322), (1077, 336, 1122, 356), (1077, 354, 1122, 373), (1127, 287, 1171, 306), (1127, 271, 1171, 290), (1129, 253, 1173, 272), (1129, 239, 1173, 258), (1131, 223, 1175, 242), (1127, 202, 1171, 221), (1129, 170, 1173, 189), (1169, 186, 1214, 205), (1169, 203, 1214, 223), (1169, 223, 1214, 242), (1169, 255, 1214, 274), (1168, 271, 1212, 290), (1166, 303, 1210, 322), (1166, 320, 1210, 340), (1164, 338, 1208, 357), (1166, 352, 1210, 372), (1212, 354, 1256, 373), (1214, 336, 1258, 356), (1214, 287, 1258, 306), (1215, 271, 1260, 290), (1215, 253, 1260, 272), (1215, 223, 1260, 242), (1214, 203, 1258, 223), (1215, 186, 1260, 205), (1258, 172, 1302, 191), (1254, 223, 1299, 242), (1254, 255, 1299, 274), (1254, 272, 1299, 292), (1253, 304, 1297, 324), (1253, 320, 1297, 340), (1309, 338, 1353, 357), (1309, 320, 1353, 340), (1309, 304, 1353, 324), (1309, 287, 1353, 306), (1309, 272, 1353, 292), (1307, 203, 1352, 223), (1348, 203, 1392, 223), (1352, 255, 1396, 274), (1352, 338, 1396, 357), (810, 403, 858, 421), (1403, 255, 1445, 274), (1532, 271, 1575, 290), (1534, 303, 1576, 322), (1541, 387, 1583, 407), (1541, 405, 1583, 425), (1543, 439, 1585, 458), (1545, 474, 1587, 494), (1546, 494, 1589, 513), (1546, 511, 1589, 531), (1548, 531, 1591, 550), (1575, 303, 1617, 322), (1573, 287, 1615, 306), (1626, 366, 1668, 386), (1629, 400, 1672, 419), (1635, 471, 1677, 490), (1640, 525, 1683, 545), (1645, 580, 1688, 600), (1721, 418, 1764, 437), (1723, 433, 1766, 453), (1725, 453, 1767, 472), (695, 564, 741, 582), (902, 403, 947, 421), (901, 421, 945, 439), (899, 439, 943, 456), (897, 456, 941, 474), (893, 474, 938, 492), (892, 511, 936, 529), (1033, 387, 1077, 405), (1074, 423, 1118, 441), (1530, 255, 1575, 272), (1543, 458, 1587, 476), (1536, 320, 1578, 338), (1536, 338, 1578, 356), (1537, 354, 1580, 372), (1541, 423, 1583, 441), (1550, 548, 1592, 566), (1714, 366, 1757, 384), (1704, 267, 1744, 285), (1706, 283, 1746, 301), (1707, 299, 1748, 317), (1711, 333, 1752, 350), (1713, 349, 1753, 366), (1716, 384, 1759, 400), (1709, 317, 1750, 333)
